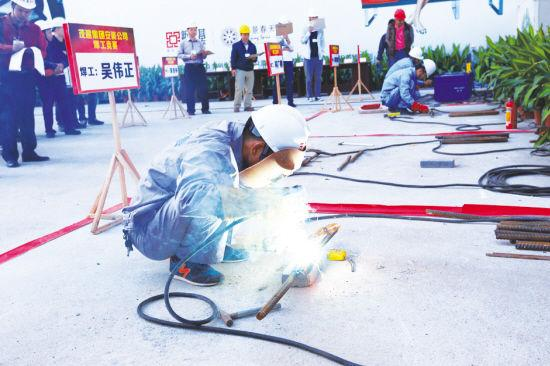helmet: (241, 103, 317, 154), (51, 17, 71, 33), (408, 48, 429, 63), (38, 18, 54, 34), (423, 60, 437, 77), (306, 9, 324, 22), (13, 1, 38, 10), (394, 8, 409, 23), (394, 9, 408, 22), (186, 19, 199, 32), (240, 25, 251, 35)
